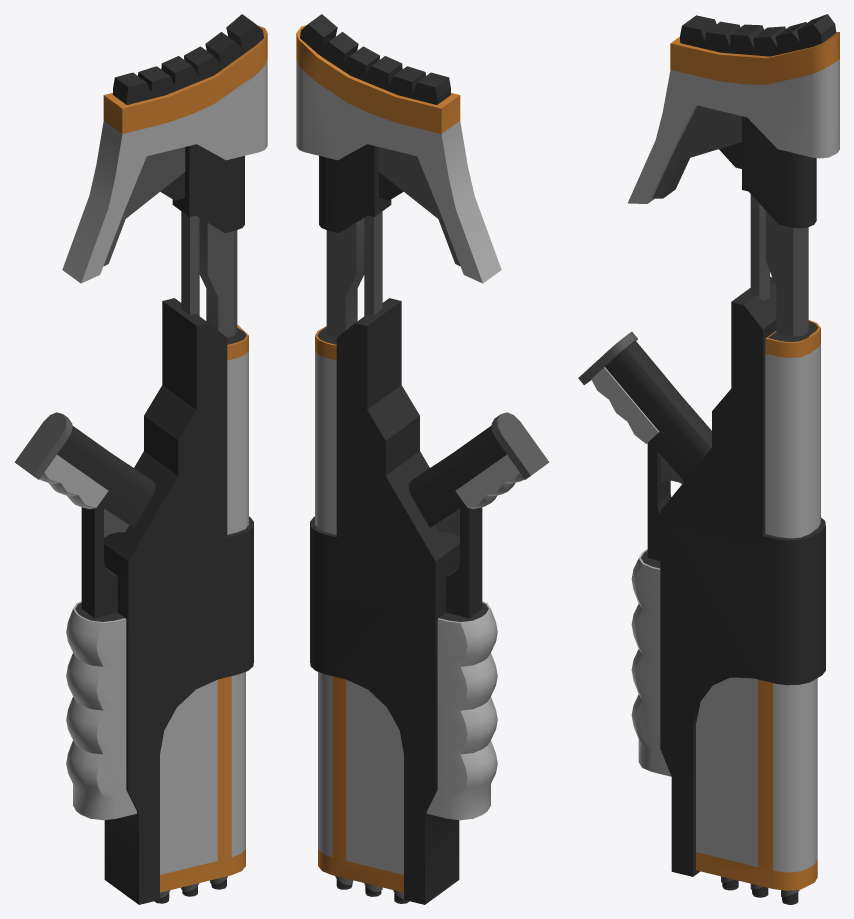
3 renders of one model, left to right at view 1: azimuth 30°, elevation 25°; view 2: azimuth 150°, elevation 25°; view 3: azimuth 330°, elevation 25°, orthographic. The views are drawn at different scales.
Parts seen in each view (by area): view 1: WeaponMesh_qg-ar-1_AR_1; view 2: WeaponMesh_qg-ar-1_AR_1; view 3: WeaponMesh_qg-ar-1_AR_1.
Part boxes in pixels (<box>): WeaponMesh_qg-ar-1_AR_1: <box>14,14,267,904</box>; WeaponMesh_qg-ar-1_AR_1: <box>296,14,549,904</box>; WeaponMesh_qg-ar-1_AR_1: <box>578,14,839,904</box>.
Bounding box in the file's own units: 0.3653 × 1.25 × 0.0903.
